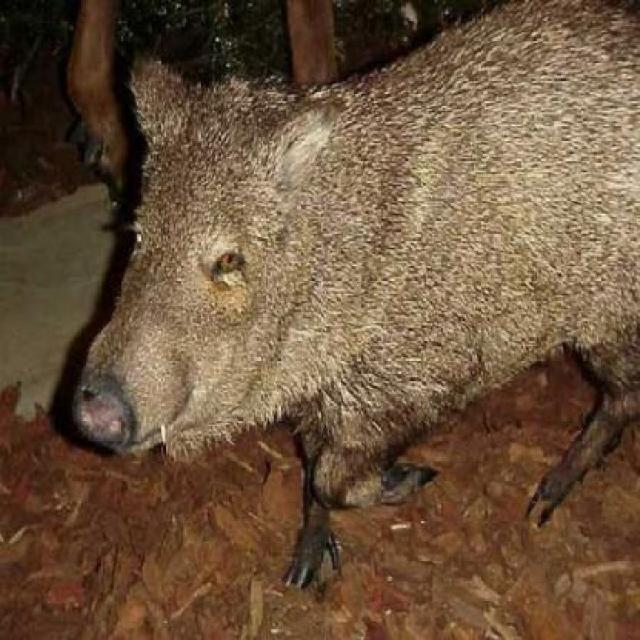pig: (61, 0, 639, 555)
